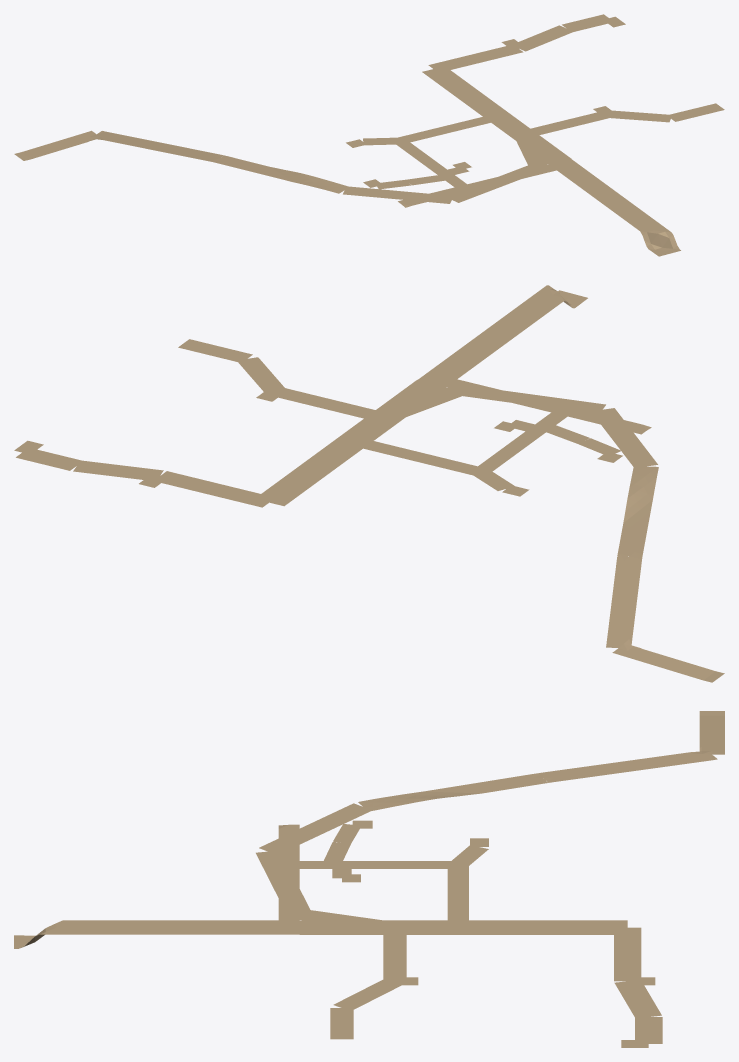
The model's file is town_paths.glb.
3 renders of one model, top to bottom at view 1: azimuth 30°, elevation 25°; view 2: azimuth 150°, elevation 25°; view 3: azimuth 270°, elevation 25°, orthographic. The views are drawn at different scales.
Visible parts, largest first — view 1: town_shore_route, town_seam_lane, town_market_lane, town_guild_lane, town_civic_lane, town_market_south, town_scholars_lane, town_market_bypass, town_door_bathhouse; view 2: town_shore_route, town_market_lane, town_seam_lane, town_guild_lane, town_civic_lane, town_market_south, town_scholars_lane, town_market_bypass, town_door_bathhouse; view 3: town_shore_route, town_market_lane, town_seam_lane, town_guild_lane, town_civic_lane, town_market_south, town_scholars_lane, town_market_bypass, town_door_bathhouse.
Boxes of the visible parts, x1,y1,x2,y2 form: town_shore_route: (14,130,547,203); town_seam_lane: (549,159,680,256); town_market_lane: (422,67,571,164); town_guild_lane: (428,14,611,72); town_civic_lane: (519,103,724,137); town_market_south: (398,162,567,207); town_scholars_lane: (363,116,494,145); town_market_bypass: (394,140,470,190); town_door_bathhouse: (363,174,450,189); town_shore_route: (377,385,724,682); town_market_lane: (255,380,446,506); town_seam_lane: (418,285,587,386); town_guild_lane: (16,449,275,507); town_civic_lane: (178,339,390,421); town_market_south: (432,376,651,434); town_scholars_lane: (358,439,514,490); town_market_bypass: (473,409,567,473); town_door_bathhouse: (538,423,622,462); town_shore_route: (256,711,724,931); town_market_lane: (299,920,627,934); town_seam_lane: (14,920,299,948); town_guild_lane: (614,927,662,1043); town_civic_lane: (330,927,406,1039); town_market_south: (278,824,299,927); town_scholars_lane: (447,845,488,922); town_market_bypass: (289,861,458,868); town_door_bathhouse: (324,820,372,860).
Bounding box in the file's own units: 80.9 × 2.6 × 67.2.
